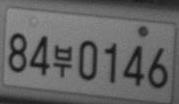0: (78, 39, 98, 79)
1: (101, 42, 122, 83)
4: (122, 45, 145, 85), (29, 35, 50, 76)
6: (147, 47, 168, 88)
8: (8, 32, 28, 73)
부: (52, 43, 72, 77)
